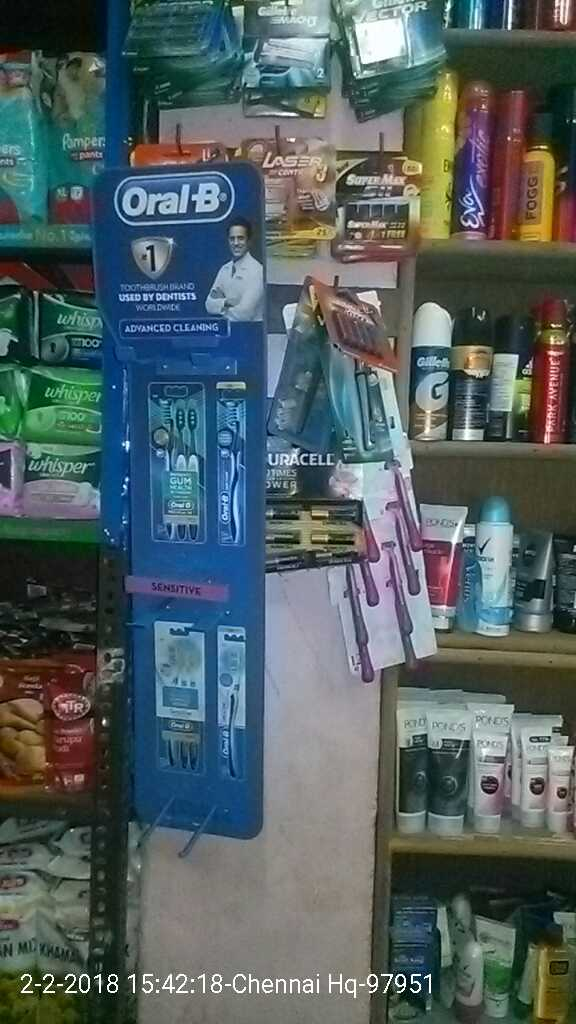pharmacy: (46, 53, 106, 227), (1, 50, 48, 227), (20, 442, 101, 522), (24, 366, 104, 444), (34, 287, 105, 368)
